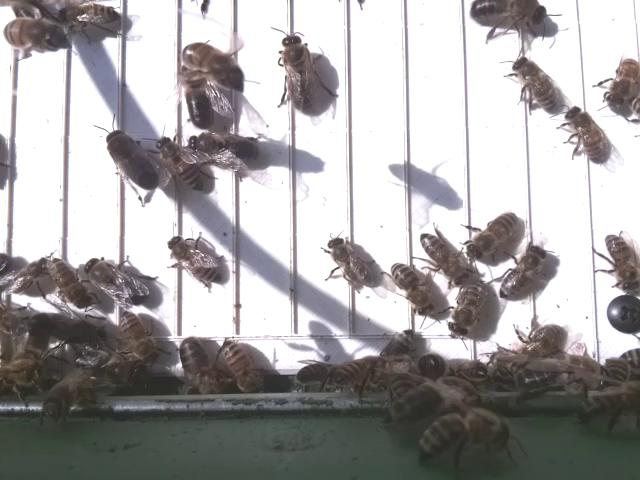Drone: (102, 126, 162, 193), (82, 255, 153, 309), (280, 34, 322, 116), (189, 131, 264, 166), (469, 0, 554, 30), (181, 67, 216, 132)
Worker: (165, 232, 226, 286), (158, 134, 207, 197), (324, 233, 373, 293), (466, 209, 520, 263), (513, 54, 560, 116), (386, 260, 435, 319), (500, 242, 548, 302), (563, 103, 608, 166), (418, 227, 464, 286), (46, 255, 89, 314), (603, 231, 640, 293), (450, 280, 488, 340), (221, 338, 258, 392), (605, 56, 640, 111), (53, 1, 124, 28)
